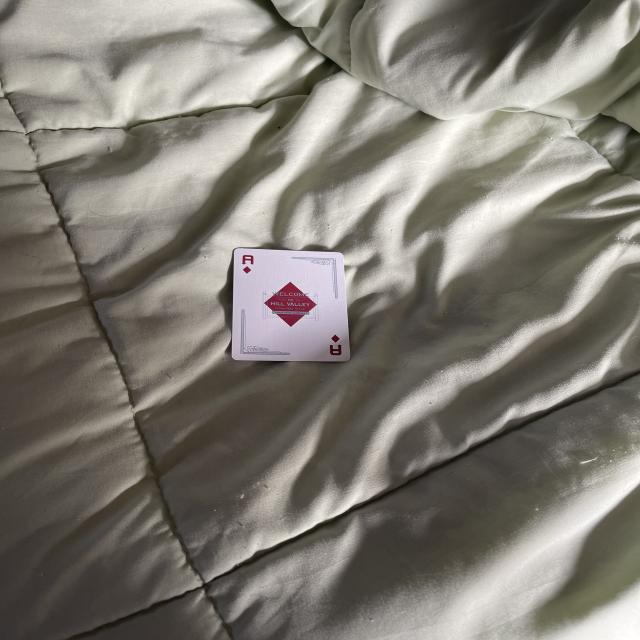Ace of diamonds: (234, 249, 351, 361)
